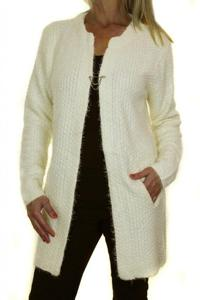C_cardigan sweater: (14, 18, 177, 292)
